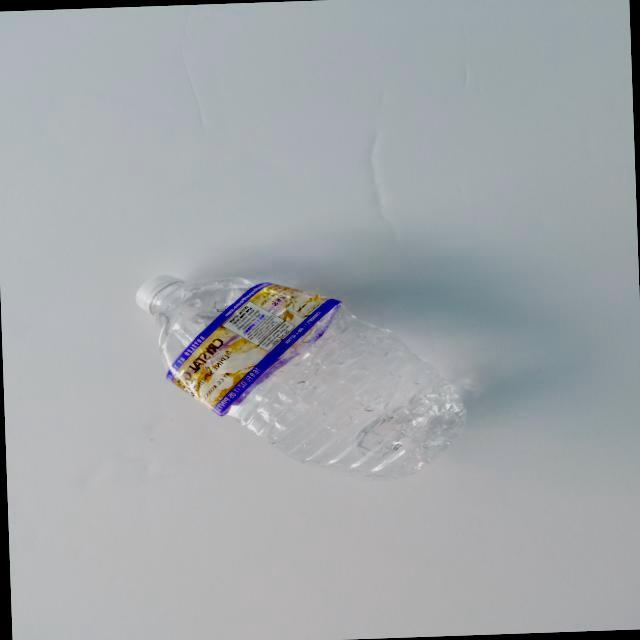plastic: (94, 226, 482, 504)
